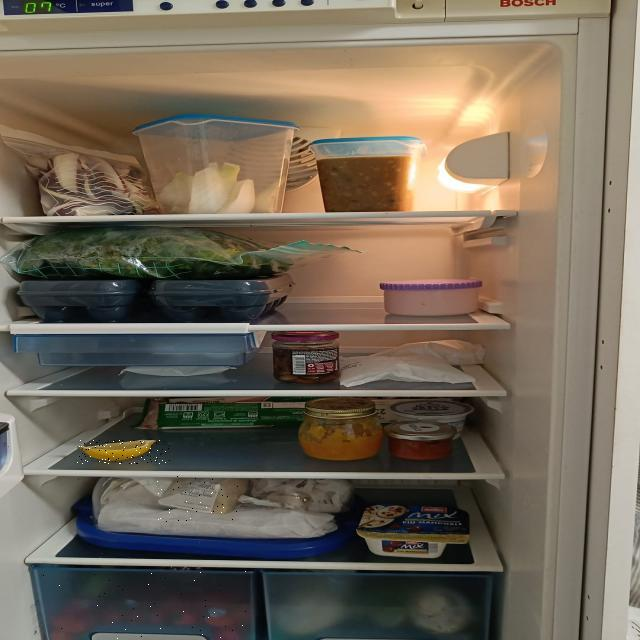carrots: (40, 565, 264, 640)
cheese: (157, 476, 239, 523)
lemon: (74, 440, 170, 464)
